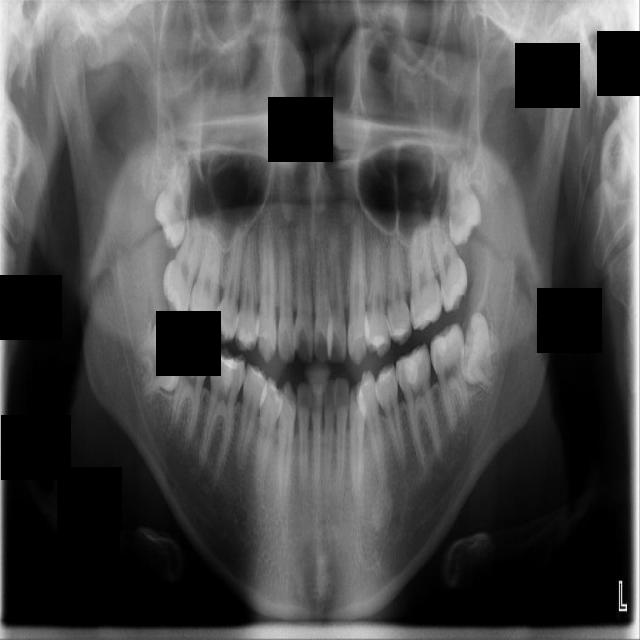3M ESPE Implant: (150, 156, 193, 250)
52: (386, 342, 443, 397), (200, 343, 254, 397)
73: (611, 589, 621, 609)
BioHorizons Implant: (427, 202, 473, 313)
BioLife Implant: (447, 158, 482, 244)
Biomet 3i Implant: (456, 311, 504, 388)
Blue Sky Bio Implant: (427, 320, 471, 430)
Caries: (156, 211, 207, 323)
Implant: (167, 332, 214, 442)
Keystone Dental Implant: (125, 315, 189, 398)
